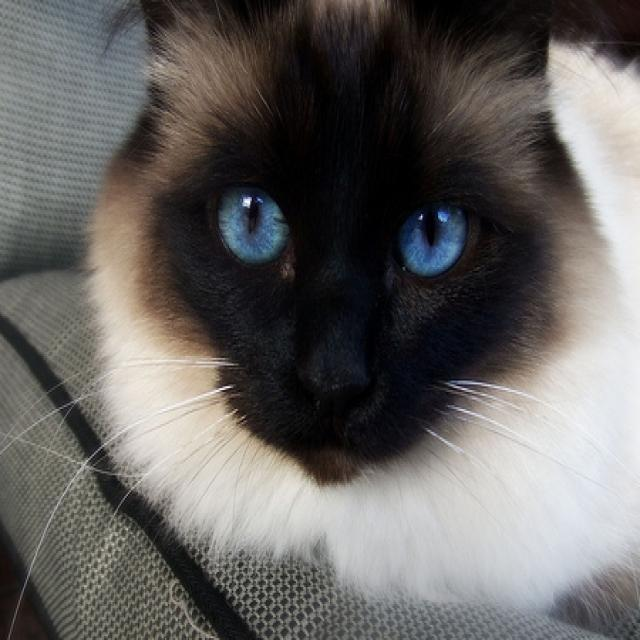Birman: (79, 0, 640, 613)
